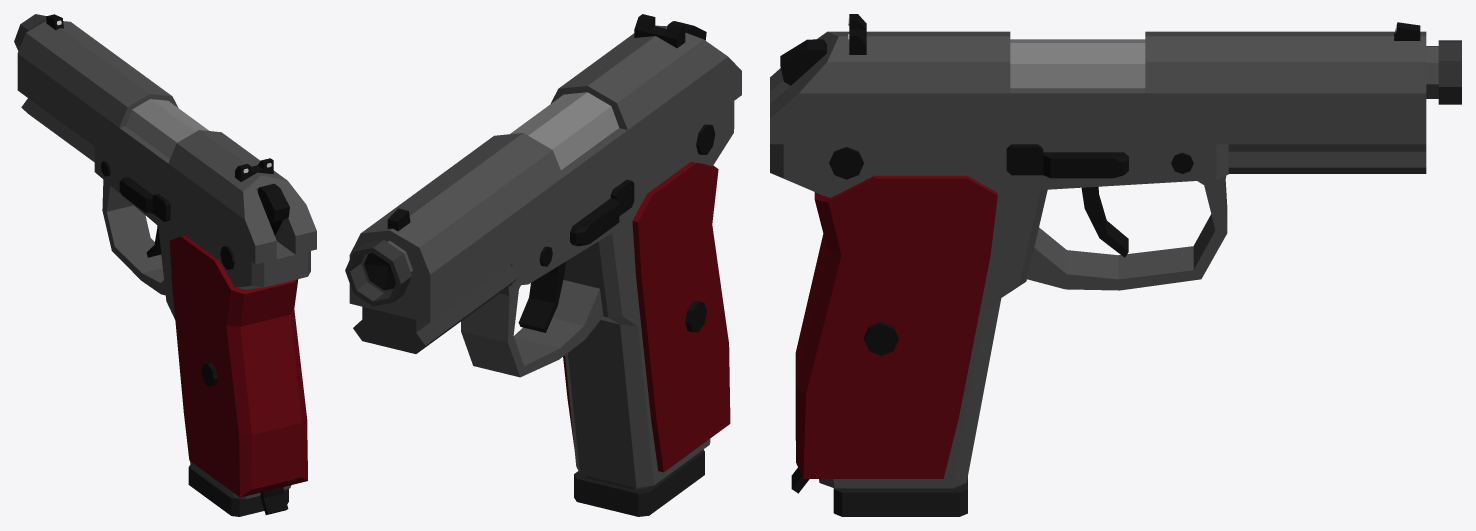
File: hellcat.glb
The picture shows the model from 3 angles, left to right: view 1: azimuth 30°, elevation 25°; view 2: azimuth 150°, elevation 25°; view 3: azimuth 270°, elevation 25°; orthographic projection. The views are drawn at different scales.
Visible parts, largest first — view 1: Body, Slide, Magazine, Slide Release, Hammer, Magazine Release; view 2: Body, Slide, Magazine, Slide Release, Trigger; view 3: Body, Slide, Magazine, Slide Release, Trigger, Hammer.
Part boxes in pixels (bbox=[...]): Body: bbox=[14, 14, 310, 498]; Slide: bbox=[17, 14, 316, 264]; Magazine: bbox=[188, 465, 288, 516]; Slide Release: bbox=[119, 176, 170, 221]; Hammer: bbox=[258, 183, 289, 235]; Magazine Release: bbox=[260, 487, 288, 514]; Body: bbox=[345, 92, 734, 487]; Slide: bbox=[349, 14, 741, 322]; Magazine: bbox=[574, 449, 704, 516]; Slide Release: bbox=[570, 179, 634, 246]; Trigger: bbox=[518, 262, 565, 332]; Body: bbox=[770, 39, 1461, 488]; Slide: bbox=[770, 14, 1426, 144]; Magazine: bbox=[833, 477, 967, 516]; Slide Release: bbox=[1006, 144, 1128, 178]; Trigger: bbox=[1081, 186, 1128, 257]; Hammer: bbox=[780, 39, 826, 85].
Size of the model in its own units: 0.0431 by 0.181 by 0.24.
